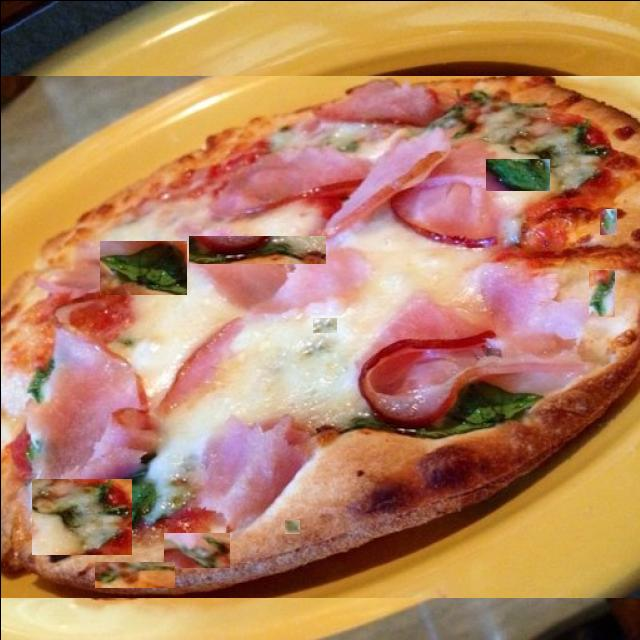basil: (31, 478, 131, 554), (99, 240, 186, 294), (188, 235, 325, 263), (163, 530, 229, 566), (94, 561, 174, 587), (485, 158, 549, 190), (588, 269, 614, 316), (547, 145, 586, 176), (505, 130, 532, 160), (599, 208, 616, 234), (312, 317, 336, 332), (282, 519, 298, 533), (501, 326, 521, 336)
pizza: (0, 75, 640, 597)
